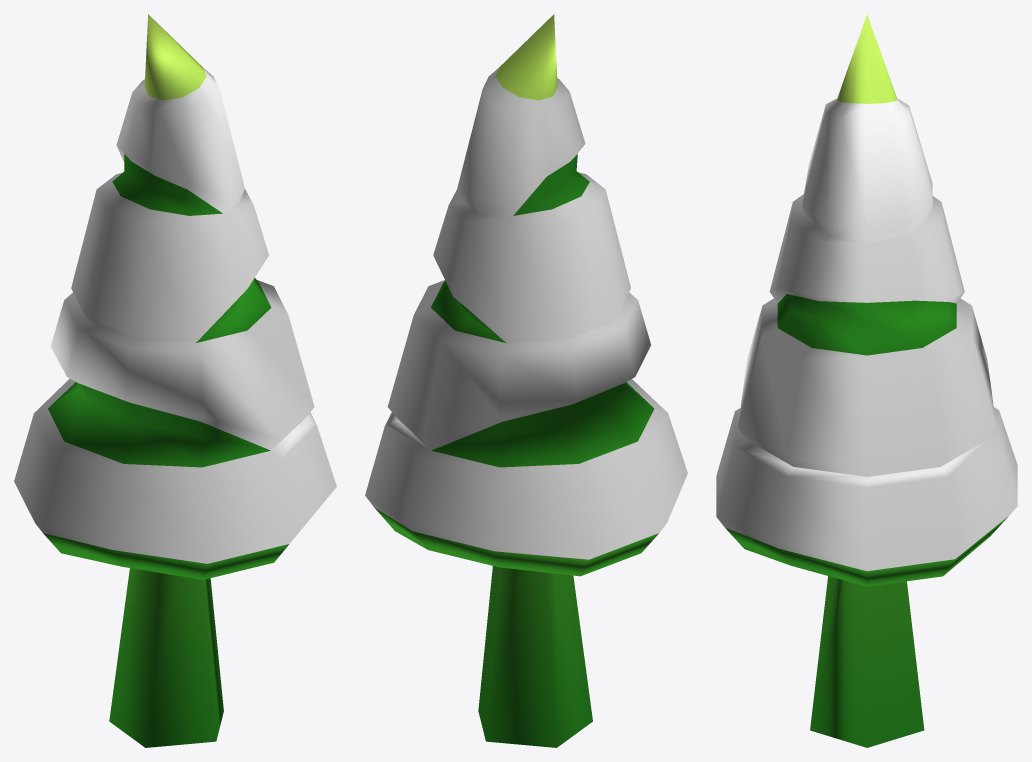
Rendered from VEG0210047.fbx.
The picture shows the model from 3 angles, left to right: view 1: azimuth 30°, elevation 25°; view 2: azimuth 150°, elevation 25°; view 3: azimuth 270°, elevation 25°; orthographic projection. The views are drawn at different scales.
Visible parts, largest first — view 1: smVEG0210047; view 2: smVEG0210047; view 3: smVEG0210047.
Boxes of the visible parts, <box> form: smVEG0210047: <box>14,14,336,747</box>; smVEG0210047: <box>365,14,687,747</box>; smVEG0210047: <box>716,14,1017,747</box>.
Size of the model in its own units: 143 by 347 by 136.
1 material, 1 textured.
